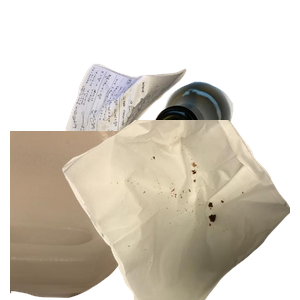glass: (151, 79, 300, 221)
paper: (63, 61, 242, 206)
plastic: (10, 131, 196, 300)
trash: (60, 120, 300, 300)
